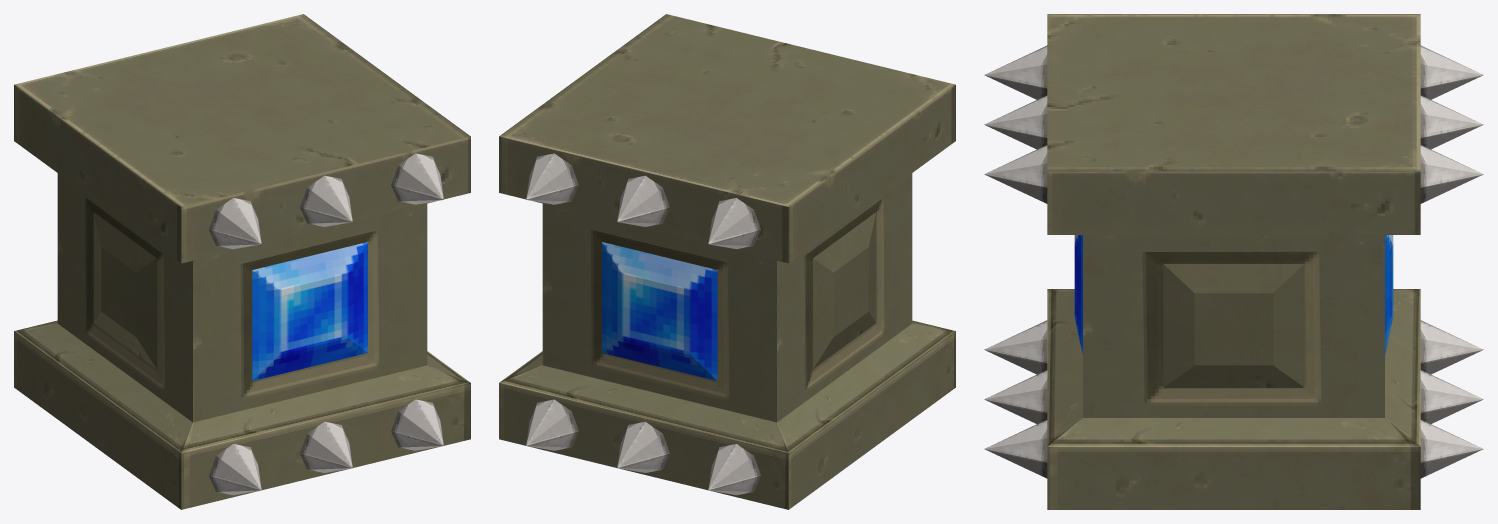
The model's file is Stone_Spikes.fbx.
3 renders of one model, left to right at view 1: azimuth 30°, elevation 25°; view 2: azimuth 150°, elevation 25°; view 3: azimuth 270°, elevation 25°, orthographic. The views are drawn at different scales.
Visible parts, largest first — view 1: Cylinder.004; view 2: Cylinder.004; view 3: Cylinder.004.
Boxes of the visible parts, bbox=[...] form: Cylinder.004: bbox=[14, 14, 470, 509]; Cylinder.004: bbox=[499, 14, 955, 509]; Cylinder.004: bbox=[984, 14, 1483, 509].
Bounding box in the file's own units: 200 × 200 × 268.
